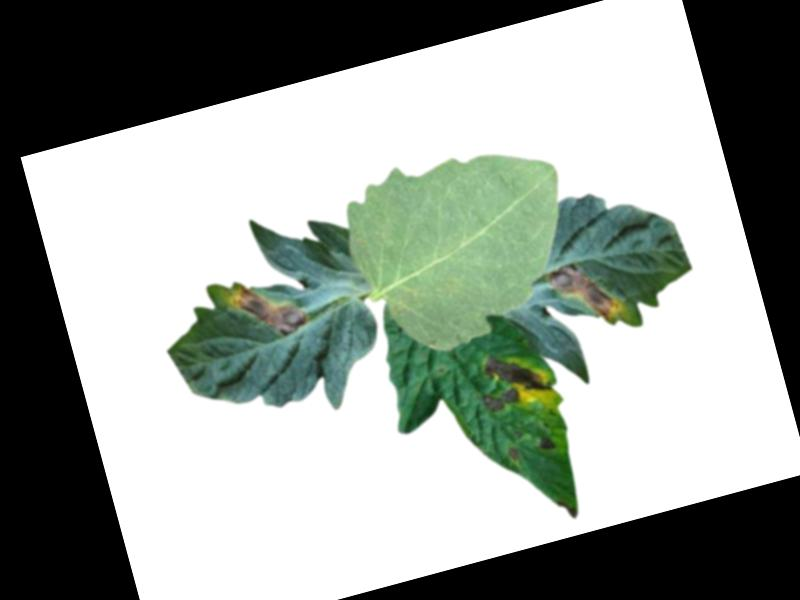Early_blight: (547, 249, 626, 337), (226, 269, 308, 348), (471, 340, 555, 415), (554, 493, 579, 523), (535, 430, 560, 452), (504, 442, 521, 460)
healthy: (332, 126, 593, 369)
